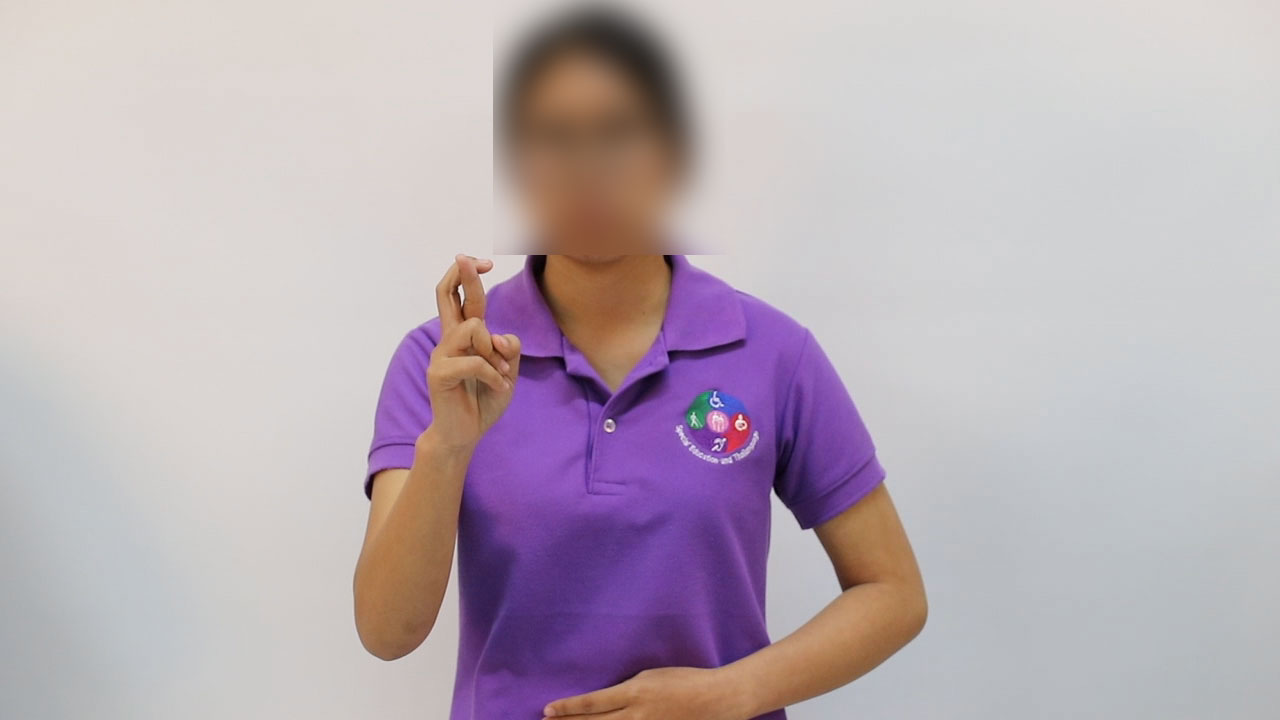rao: (393, 250, 525, 463)
